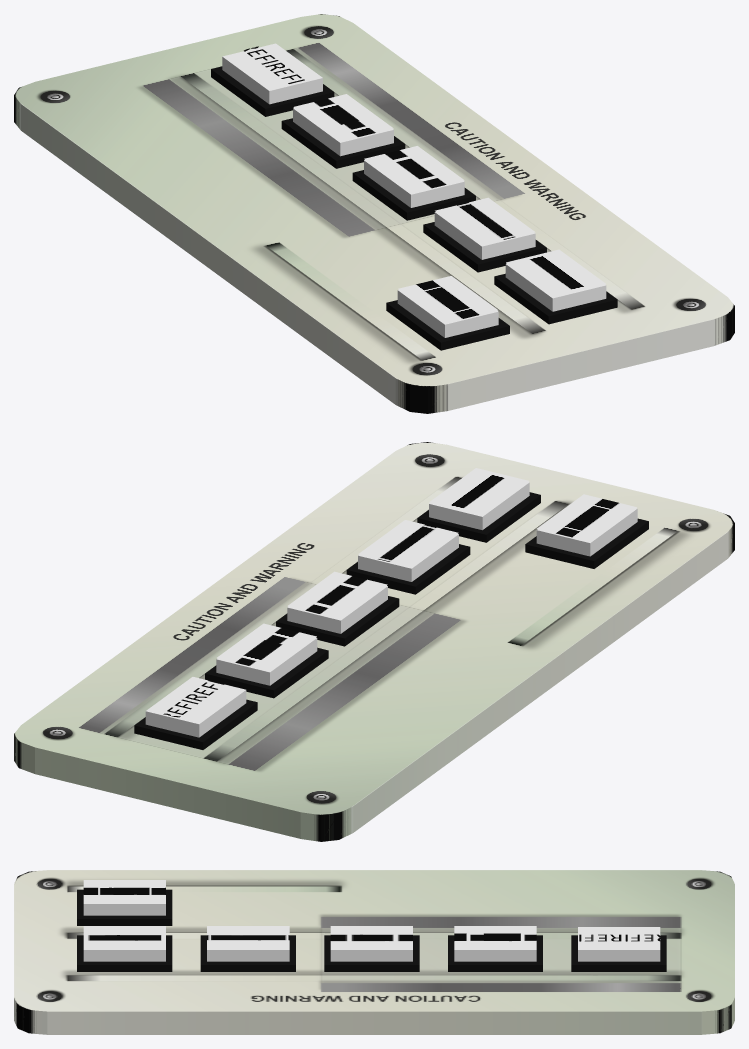
Rendered from CautionWarningPanel.FBX.
3 views of the same model, one above another, from view 1: azimuth 30°, elevation 25°; view 2: azimuth 150°, elevation 25°; view 3: azimuth 270°, elevation 25° (orthographic). The views are drawn at different scales.
Visible parts, largest first — view 1: Plate, Button_Frames, ButtonFire, Warn_Button_Mask, Caut_Button_Mask, ATM_Button_Mask, Pres_Button_Mask, Test_Button_Mask, Button_Frame_Test, ButtonCaut, ButtonWarn, ButtonTest (+2 smaller); view 2: Plate, Button_Frames, ButtonFire, Warn_Button_Mask, Caut_Button_Mask, ATM_Button_Mask, Pres_Button_Mask, Test_Button_Mask, Button_Frame_Test, ButtonTest, ButtonPress, ButtonATM (+2 smaller); view 3: Plate, Button_Frames, ButtonFire, ATM_Button_Mask, Caut_Button_Mask, Pres_Button_Mask, Warn_Button_Mask, Test_Button_Mask, Button_Frame_Test, ButtonPress, ButtonWarn, ButtonATM (+3 smaller).
Part boxes in pixels (x1=…): Plate: x1=14, y1=14, x2=734, y2=413; Button_Frames: x1=211, y1=66, x2=617, y2=324; ButtonFire: x1=222, y1=43, x2=322, y2=104; Warn_Button_Mask: x1=435, y1=197, x2=535, y2=244; Caut_Button_Mask: x1=506, y1=249, x2=605, y2=296; ATM_Button_Mask: x1=364, y1=146, x2=464, y2=193; Pres_Button_Mask: x1=293, y1=94, x2=393, y2=141; Test_Button_Mask: x1=398, y1=276, x2=497, y2=323; Button_Frame_Test: x1=386, y1=300, x2=509, y2=350; ButtonCaut: x1=505, y1=263, x2=606, y2=311; ButtonWarn: x1=434, y1=212, x2=535, y2=259; ButtonTest: x1=397, y1=290, x2=498, y2=337; Plate: x1=14, y1=442, x2=734, y2=841; Button_Frames: x1=134, y1=492, x2=540, y2=749; ButtonFire: x1=145, y1=677, x2=246, y2=737; Warn_Button_Mask: x1=358, y1=520, x2=458, y2=567; Caut_Button_Mask: x1=429, y1=468, x2=529, y2=515; ATM_Button_Mask: x1=287, y1=571, x2=387, y2=619; Pres_Button_Mask: x1=217, y1=623, x2=316, y2=670; Test_Button_Mask: x1=537, y1=494, x2=636, y2=541; Button_Frame_Test: x1=525, y1=518, x2=648, y2=568; ButtonTest: x1=536, y1=508, x2=637, y2=556; ButtonPress: x1=216, y1=637, x2=317, y2=685; ButtonATM: x1=287, y1=586, x2=387, y2=633; Plate: x1=14, y1=870, x2=734, y2=1034; Button_Frames: x1=77, y1=935, x2=666, y2=971; ButtonFire: x1=578, y1=927, x2=660, y2=961; ATM_Button_Mask: x1=330, y1=926, x2=412, y2=948; Caut_Button_Mask: x1=83, y1=926, x2=165, y2=948; Pres_Button_Mask: x1=454, y1=926, x2=536, y2=948; Warn_Button_Mask: x1=207, y1=926, x2=289, y2=948; Test_Button_Mask: x1=83, y1=880, x2=165, y2=902; Button_Frame_Test: x1=77, y1=889, x2=172, y2=925; ButtonPress: x1=454, y1=948, x2=536, y2=961; ButtonWarn: x1=207, y1=948, x2=289, y2=961; ButtonATM: x1=330, y1=948, x2=412, y2=961.
Size of the model in its own units: 0.13 by 0.0185 by 0.28.
14 materials, 7 textured.
